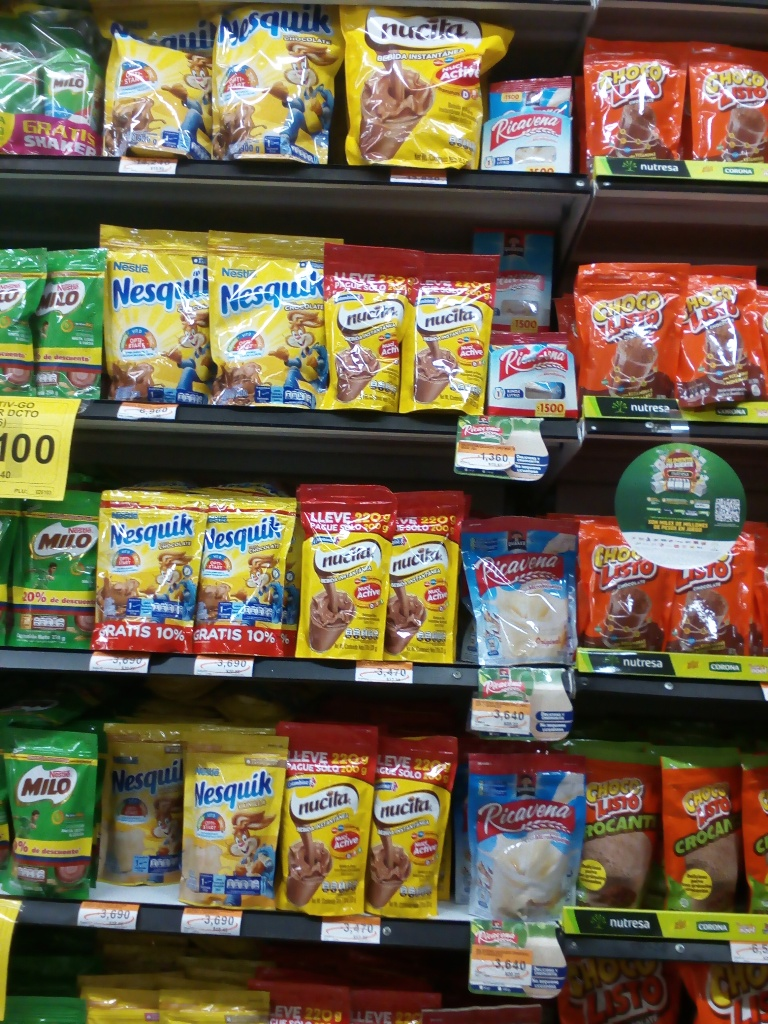COL0170306DYP20000: (97, 718, 179, 898)
